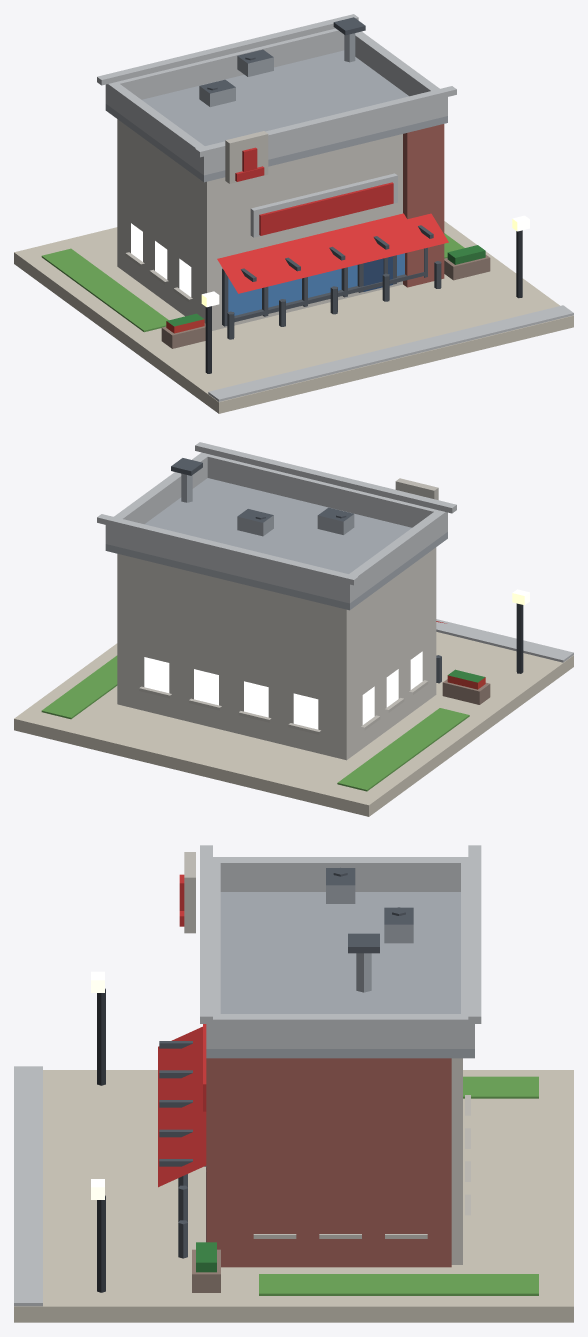
3 views of the same model, one above another, from view 1: azimuth 30°, elevation 25°; view 2: azimuth 150°, elevation 25°; view 3: azimuth 270°, elevation 25° (orthographic). The views are drawn at different scales.
Parts seen in each view (by area): view 1: b15_v2; view 2: b15_v2; view 3: b15_v2.
Part boxes in pixels (<box>): b15_v2: <box>14,14,573,413</box>; b15_v2: <box>14,442,573,816</box>; b15_v2: <box>14,845,573,1322</box>.
Size of the model in its own units: 0.96 by 0.602 by 0.96.
